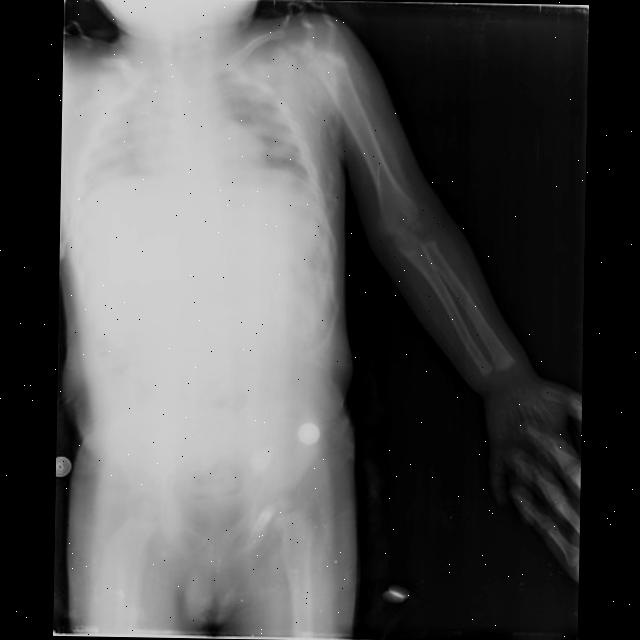Fracture: (450, 325, 476, 349)
